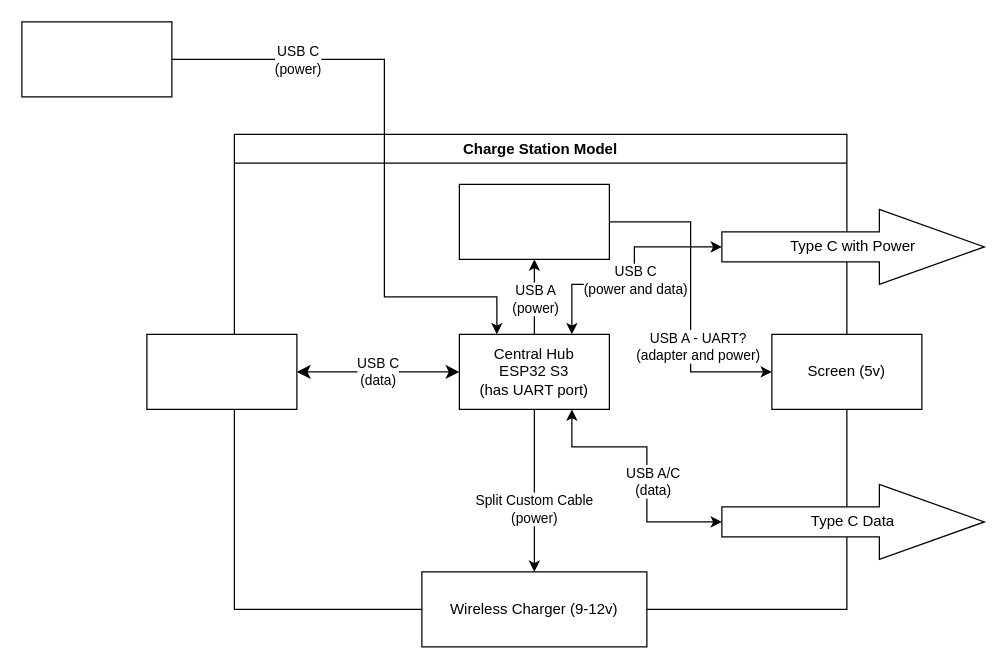
Some shapes in this 1006 by 669 pixel diagram are drawn without their labels. Here are the shapes that lost their labels. From the top down, the centre of each, then its label:
At point 96,59: "Wall Power".
At point 533,221: "ESP32 (5v)".
At point 221,371: "USB Hub".
